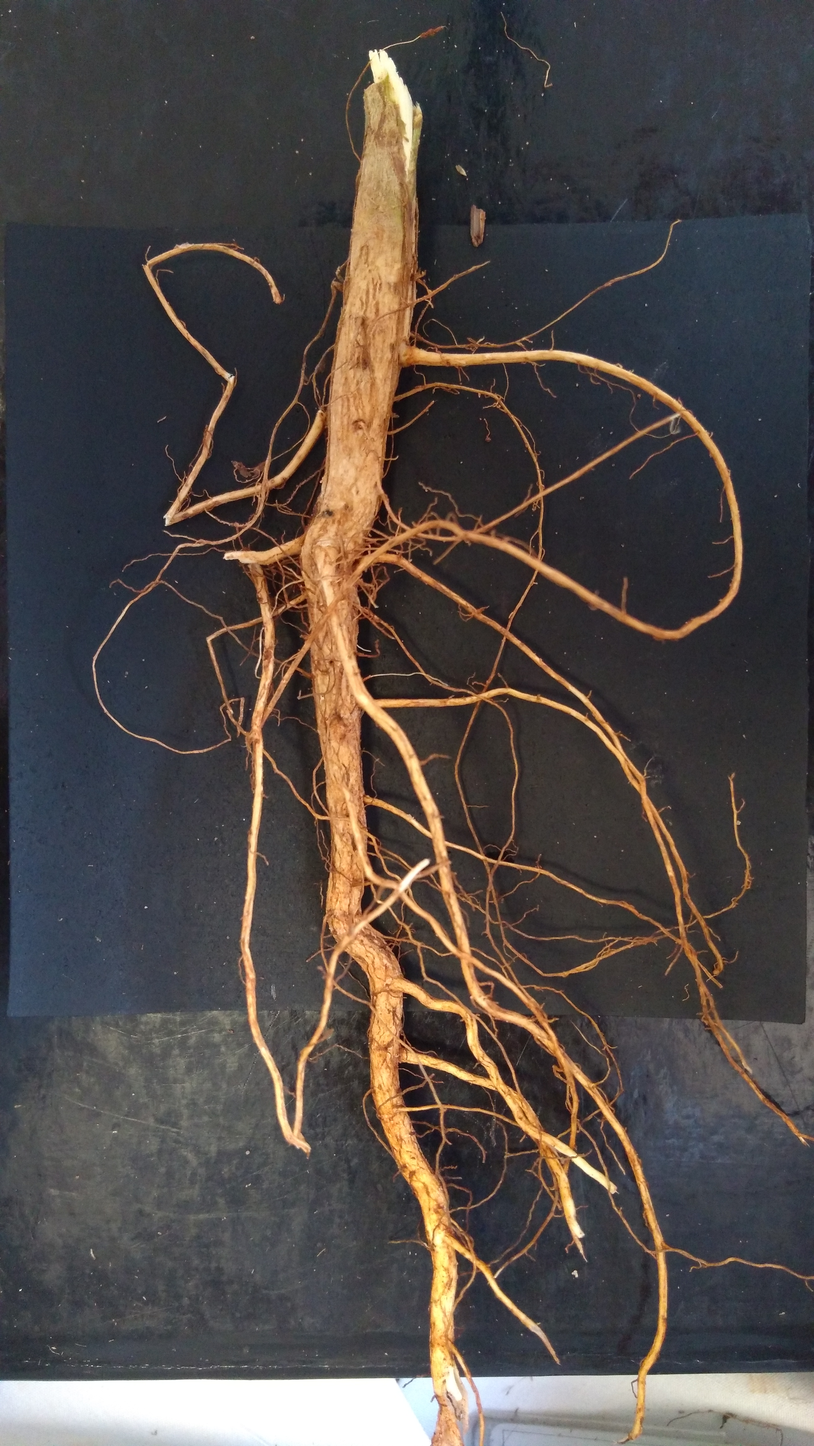nodule: (336, 692, 362, 728), (343, 528, 367, 558), (351, 554, 374, 572), (244, 730, 260, 745), (321, 1027, 332, 1040), (319, 475, 325, 484), (712, 968, 719, 975), (735, 819, 741, 825), (485, 437, 491, 442), (365, 794, 370, 799)
